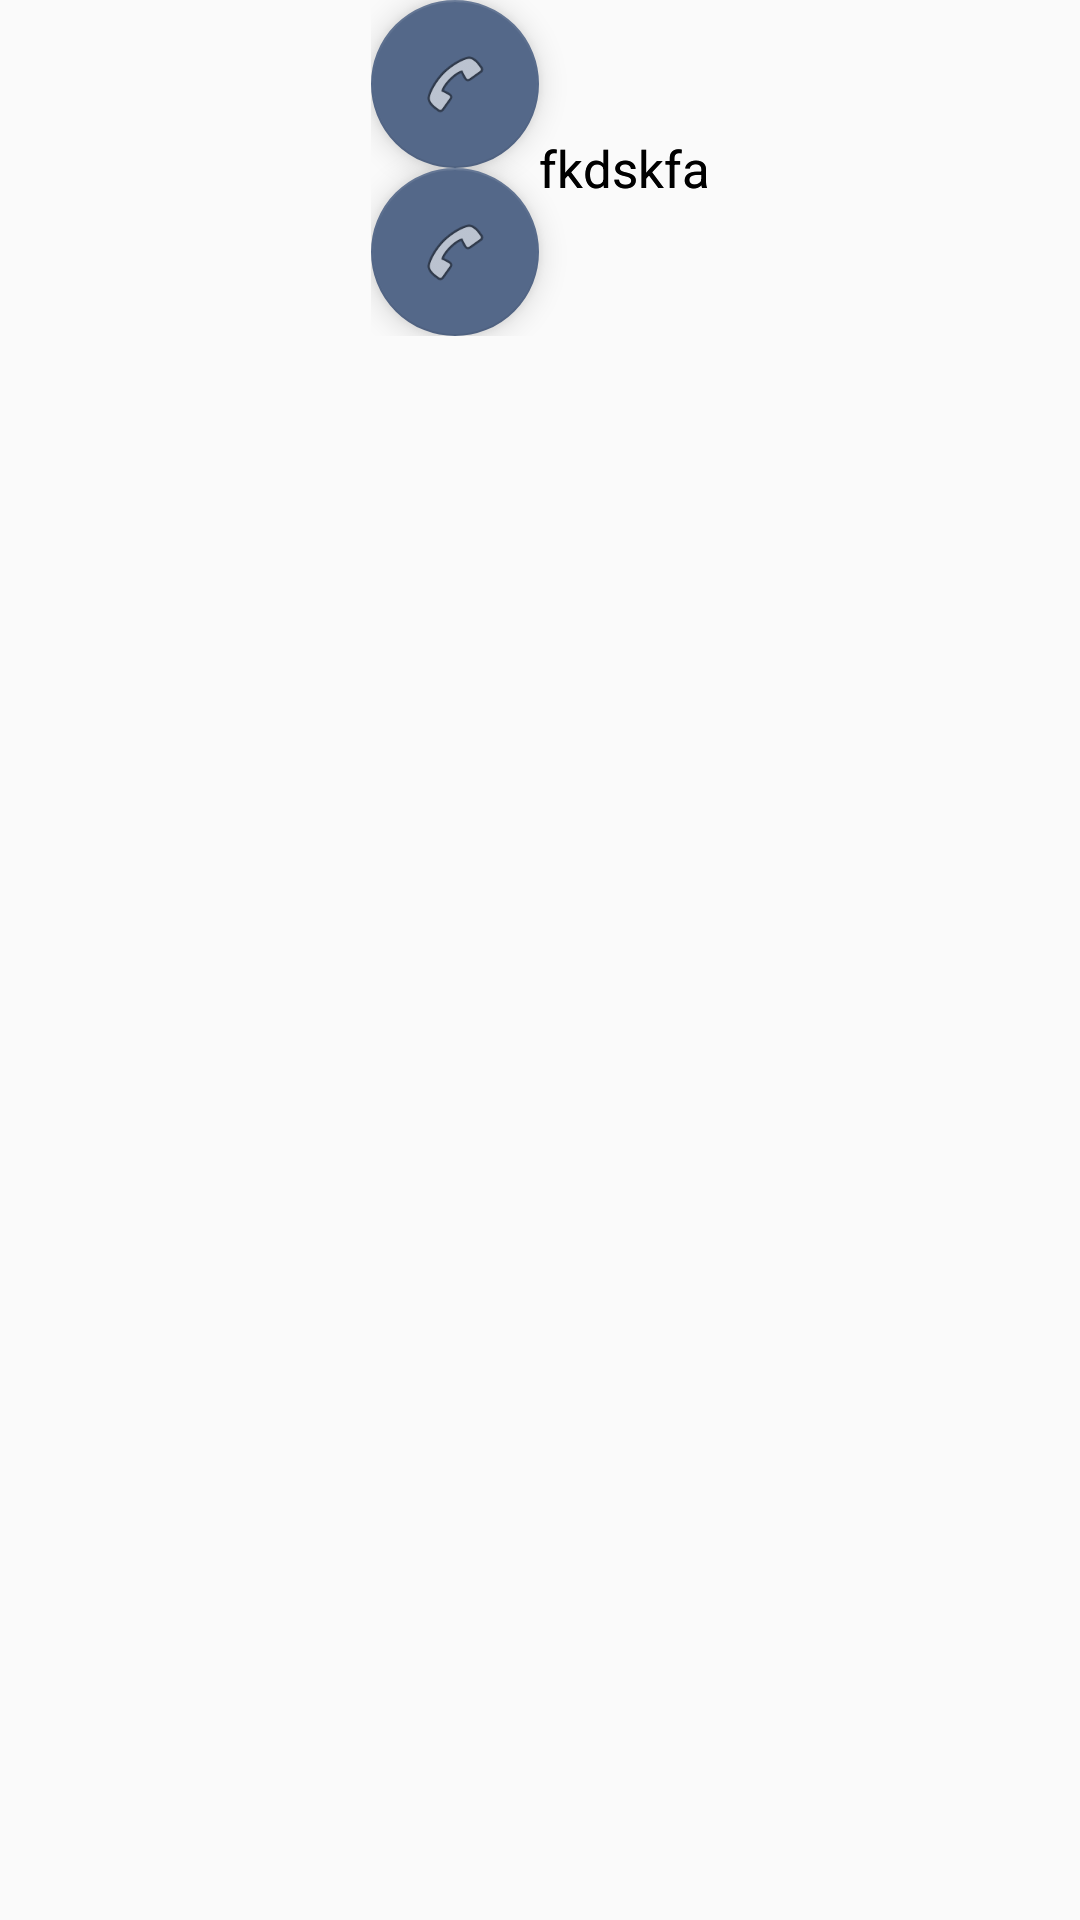

Point at icon controls on the screen. Image size 1080×1920, points as (x,y).
call: (455,84), (455,252)
